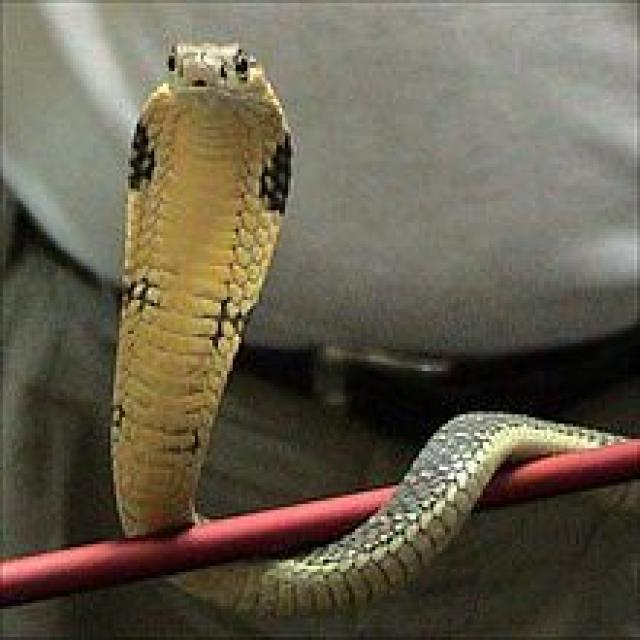Snake: (105, 36, 638, 618)
